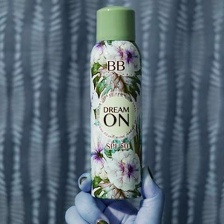aerosol_cans: (87, 2, 145, 202)
